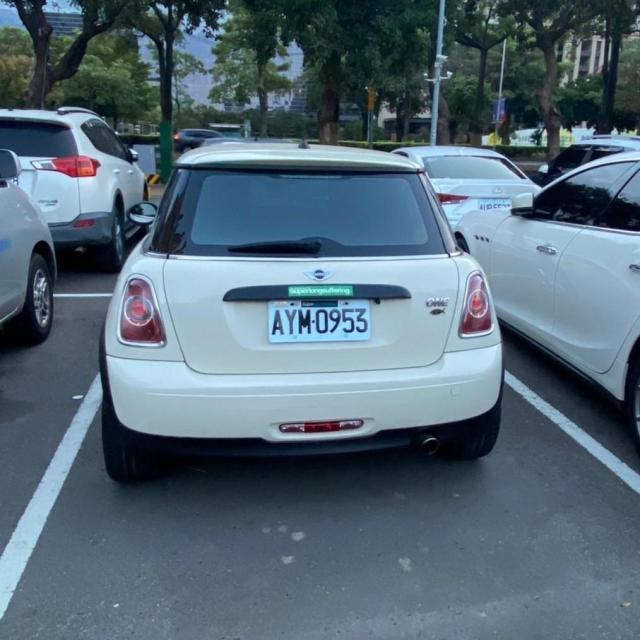W: (263, 292, 373, 346)
